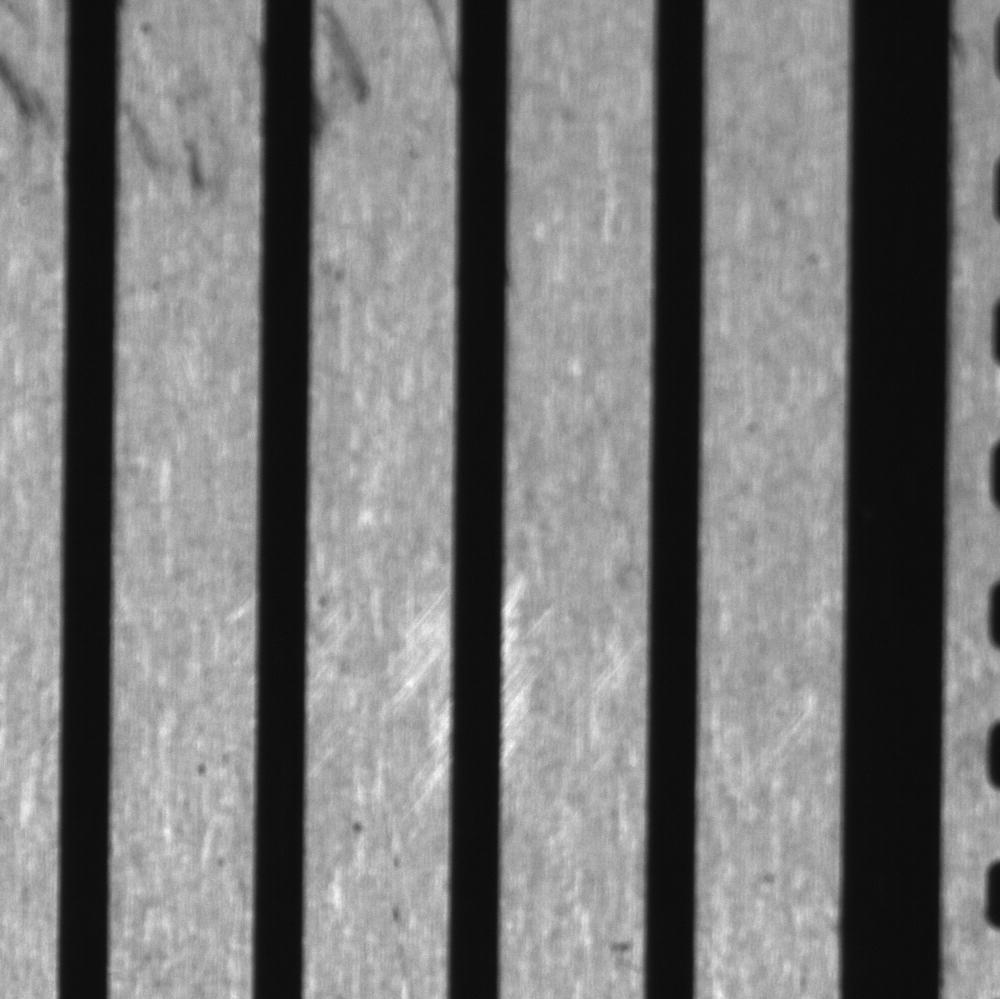Discolor: (123, 68, 244, 218), (2, 2, 64, 194), (310, 2, 375, 148)
Etching: (596, 926, 647, 978)
Pinhole: (339, 810, 375, 849), (186, 750, 216, 787)
Scar: (355, 566, 453, 786), (726, 687, 824, 803), (577, 619, 649, 709), (500, 680, 560, 773), (505, 581, 558, 673)
